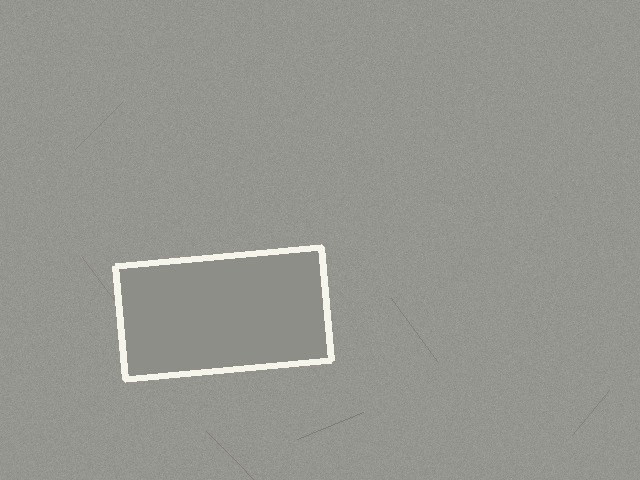parking_area: (115, 247, 331, 379)
